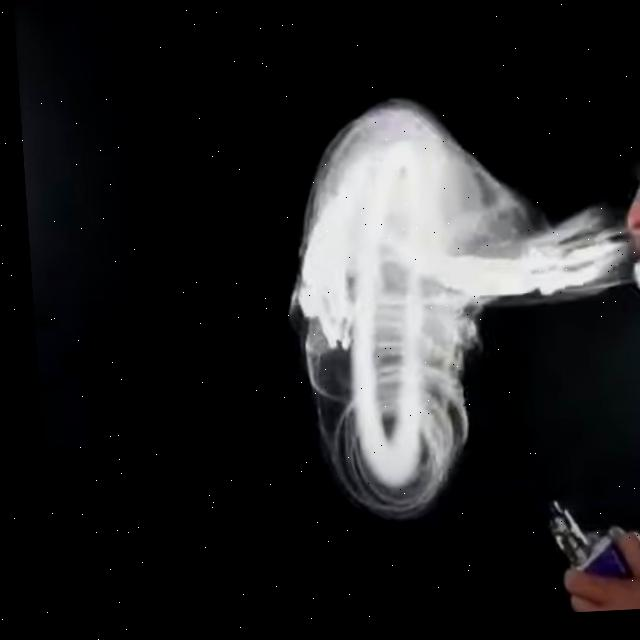vape: (538, 503, 625, 590)
